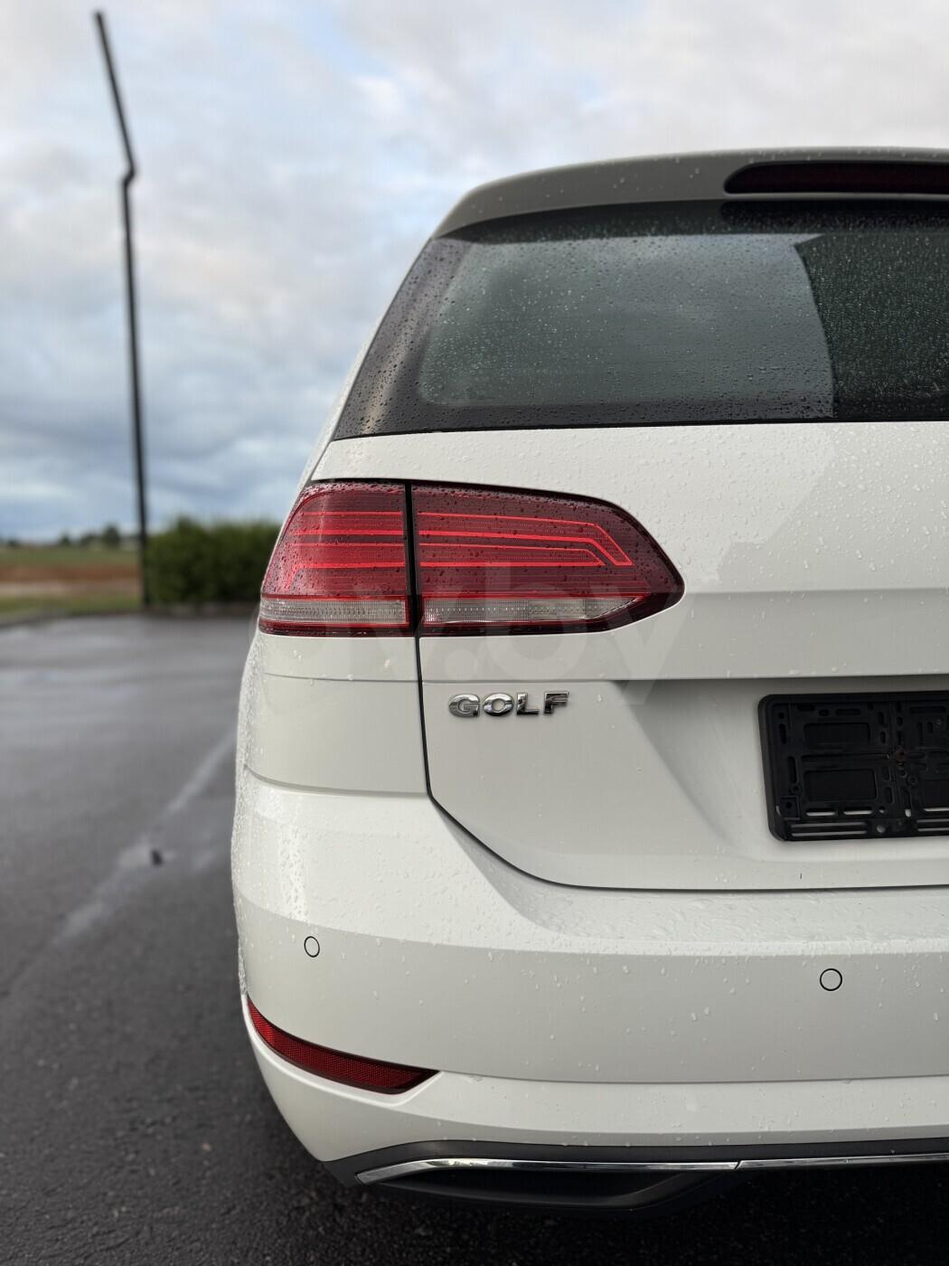Golf_2017-2021: (224, 141, 949, 1219)
